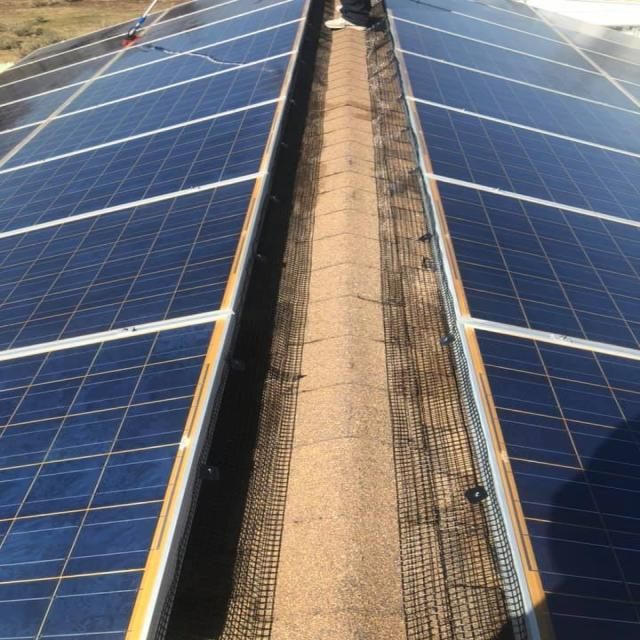clean-solar-panel: (388, 0, 637, 640)
